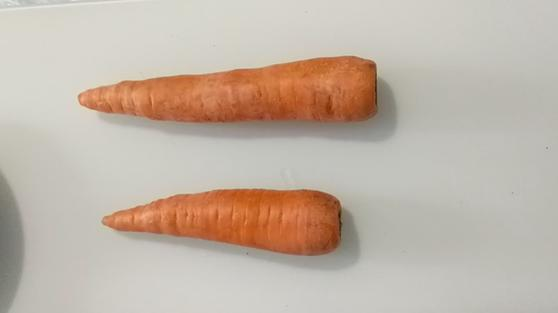carrot: (80, 52, 387, 123), (102, 185, 348, 262)
